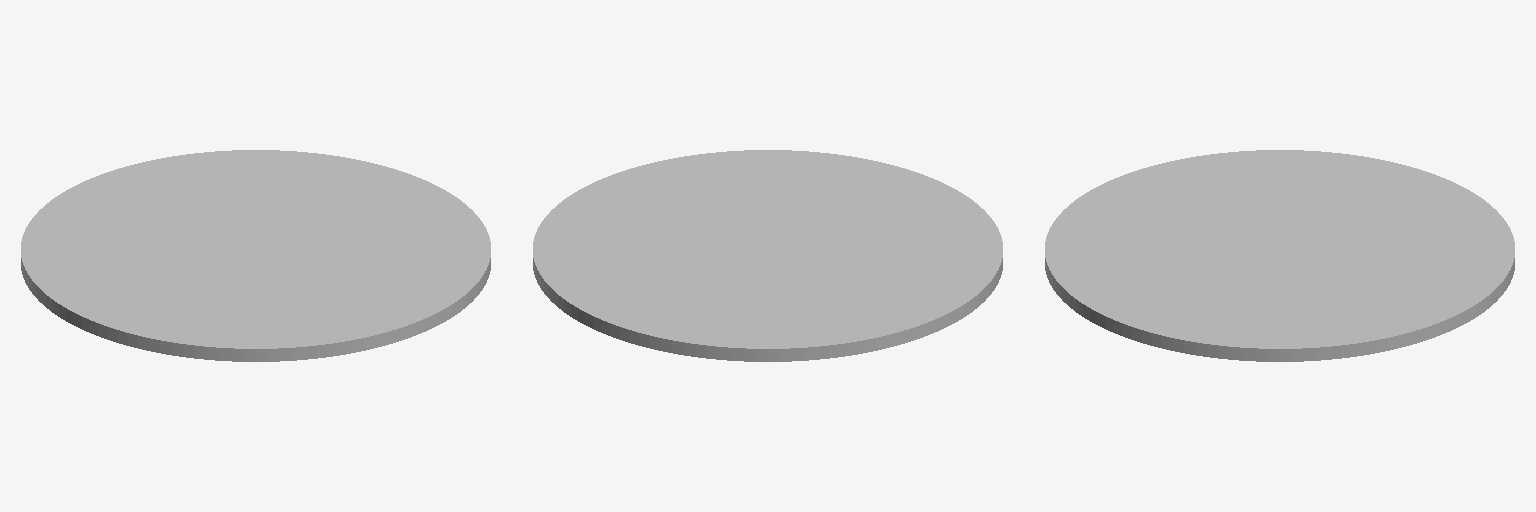
Rendered from podium.obj.
3 views of the same model, side by side, from view 1: azimuth 30°, elevation 25°; view 2: azimuth 150°, elevation 25°; view 3: azimuth 270°, elevation 25° (orthographic).
Parts seen in each view (by area): view 1: Cylinder; view 2: Cylinder; view 3: Cylinder.
Part boxes in pixels (bbox=[...]): Cylinder: bbox=[21, 150, 490, 361]; Cylinder: bbox=[533, 150, 1002, 361]; Cylinder: bbox=[1045, 150, 1514, 361].
Bounding box in the file's own units: 11.03 × 0.338 × 11.03.